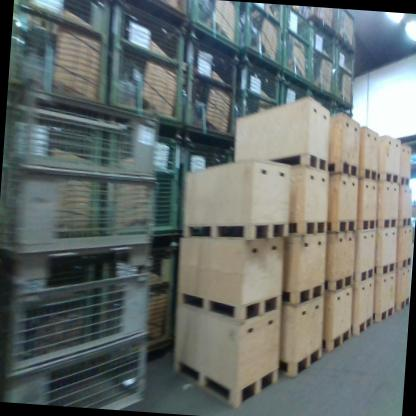stillage: (5, 98, 169, 287), (0, 260, 161, 412), (0, 104, 115, 246), (0, 248, 104, 385), (7, 0, 115, 116), (97, 240, 181, 377), (97, 124, 183, 235), (106, 28, 190, 131), (182, 36, 244, 146), (176, 138, 242, 237), (230, 55, 282, 144), (230, 4, 289, 74), (279, 6, 318, 90), (190, 1, 243, 55), (330, 43, 365, 108), (306, 26, 335, 102), (116, 0, 191, 25), (276, 78, 313, 118), (336, 11, 358, 50), (309, 7, 340, 32)
